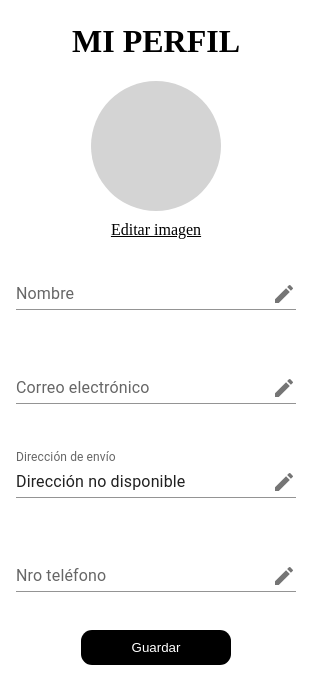
Actualización de información personal › U9-003: Mostrar mensaje de error cuando nombre contenga espacios consecutivos.
This screenshot has width=320, height=697.
Type "Luciana  Martinez" into the field labelled "Nombre" at [140, 294], box [16, 278, 264, 310]
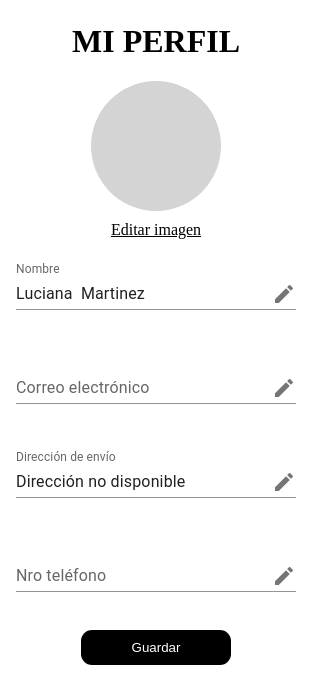
Click the button "Guardar" at [156, 647], box [81, 630, 231, 665]
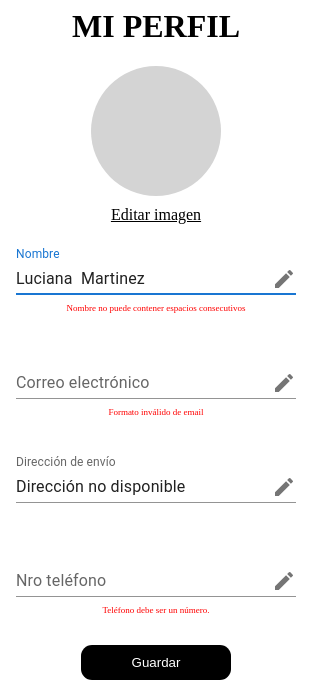
Check: the text "Nombre no puede contener espacios consecutivos" is shown, box [66, 303, 246, 313]
